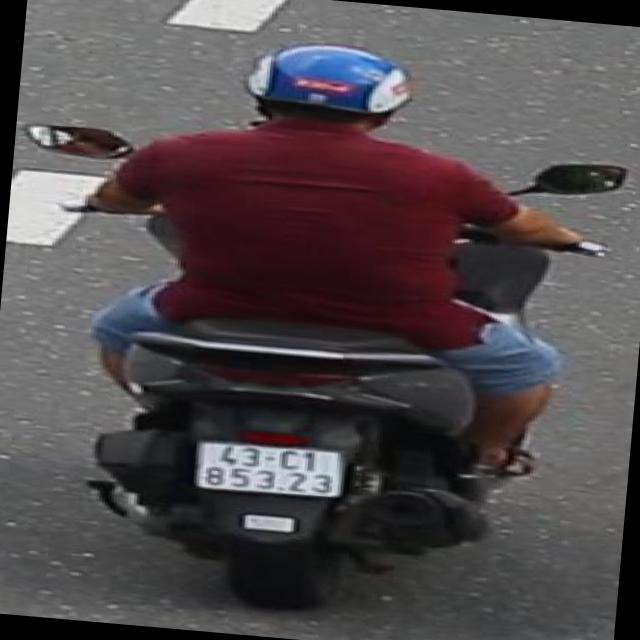LP: (185, 434, 354, 504)
helmet: (232, 35, 439, 152)
